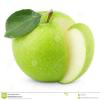Apple leaf: (2, 7, 42, 40)
